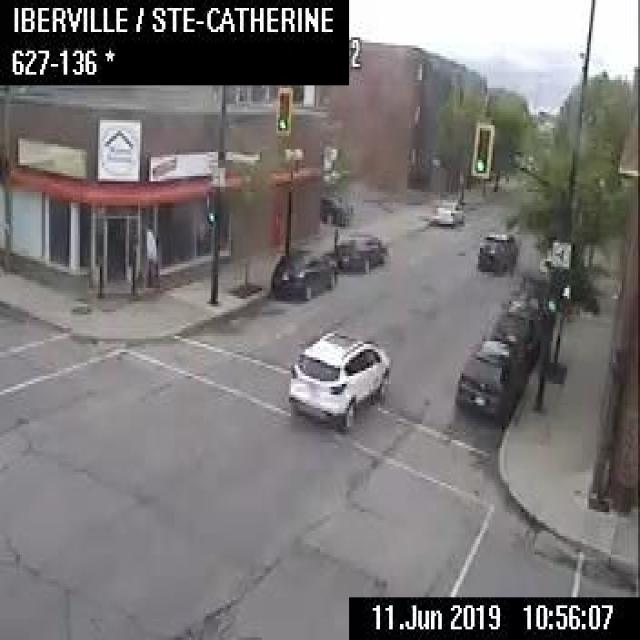vehicle: (285, 328, 391, 435), (454, 338, 522, 422), (267, 246, 336, 299), (489, 296, 543, 360), (511, 266, 558, 314), (332, 230, 385, 270), (476, 232, 516, 272), (318, 192, 353, 224), (433, 199, 462, 225)
